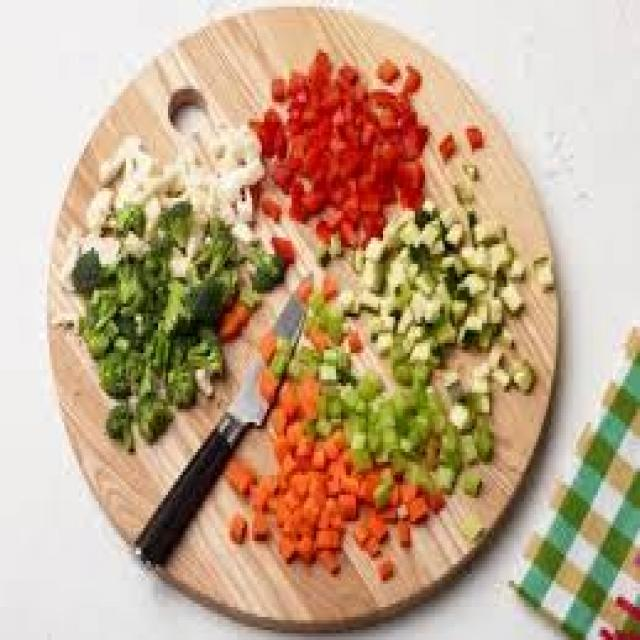organic waste: (170, 122, 218, 185), (106, 258, 158, 314), (173, 270, 232, 316), (79, 287, 119, 353), (190, 218, 240, 270), (148, 194, 190, 250), (309, 122, 358, 165), (163, 337, 195, 402), (138, 240, 176, 294), (185, 330, 218, 392), (96, 350, 144, 392), (156, 280, 198, 326), (131, 386, 170, 435), (220, 152, 272, 188), (284, 92, 329, 132), (237, 244, 277, 287), (250, 102, 282, 155), (346, 96, 378, 145), (114, 152, 156, 188), (79, 228, 121, 264), (383, 247, 420, 287), (104, 402, 133, 452), (99, 135, 138, 172), (366, 310, 398, 353), (82, 182, 114, 224), (381, 204, 415, 241), (393, 158, 420, 204), (396, 112, 422, 158), (64, 251, 104, 280), (358, 142, 393, 175), (217, 297, 252, 330), (465, 208, 504, 237), (264, 162, 302, 191), (329, 82, 368, 109), (284, 492, 316, 524), (222, 459, 257, 488), (208, 132, 247, 158), (294, 376, 319, 416), (425, 419, 455, 452), (158, 152, 185, 188), (373, 92, 405, 122), (334, 218, 363, 250), (370, 56, 398, 89), (400, 452, 430, 482), (218, 185, 245, 218), (482, 234, 509, 267), (529, 247, 553, 284), (287, 346, 316, 376), (336, 247, 368, 274), (396, 66, 422, 99), (373, 284, 405, 310), (390, 383, 422, 409), (356, 178, 390, 201), (284, 129, 314, 155), (328, 86, 361, 109), (312, 162, 338, 191), (418, 218, 444, 247), (445, 402, 472, 429), (408, 333, 435, 360), (410, 264, 438, 290), (356, 366, 378, 399), (358, 205, 383, 234), (440, 218, 462, 250), (254, 370, 276, 402), (356, 261, 383, 287), (368, 389, 391, 419), (420, 290, 440, 324), (309, 49, 329, 82), (138, 191, 160, 221), (430, 274, 450, 307), (396, 409, 416, 442), (306, 287, 326, 320), (435, 136, 455, 168), (312, 528, 344, 548), (432, 317, 454, 346), (418, 383, 440, 412), (334, 495, 358, 521), (358, 237, 381, 264), (314, 353, 341, 376), (336, 165, 366, 185), (312, 211, 338, 234), (403, 323, 425, 350), (314, 544, 336, 571), (334, 175, 354, 204), (386, 330, 406, 359), (284, 66, 309, 89), (512, 363, 534, 389), (393, 297, 415, 323), (225, 515, 247, 541), (287, 188, 311, 211), (460, 475, 484, 498), (351, 277, 375, 300), (413, 406, 437, 429), (109, 188, 141, 205), (331, 59, 351, 86), (242, 125, 260, 155), (49, 306, 76, 326), (440, 369, 460, 396), (390, 356, 410, 383), (318, 310, 338, 337), (489, 366, 512, 389), (406, 290, 428, 314), (474, 426, 492, 455), (284, 469, 302, 498), (316, 495, 334, 524), (272, 231, 292, 257), (460, 122, 477, 152), (450, 178, 472, 201), (334, 287, 356, 310), (242, 485, 264, 508), (227, 221, 252, 241), (363, 426, 388, 446), (306, 465, 324, 492), (296, 531, 314, 558), (279, 380, 294, 412), (195, 188, 218, 208), (59, 235, 79, 258), (502, 251, 522, 274), (408, 356, 428, 379), (264, 409, 284, 432), (358, 531, 378, 554), (430, 465, 452, 485), (366, 475, 388, 495), (250, 512, 270, 534), (326, 455, 348, 475), (403, 492, 425, 512), (351, 522, 371, 544), (457, 426, 472, 455), (318, 270, 334, 297), (331, 346, 344, 379), (484, 340, 502, 363), (269, 343, 287, 366), (252, 468, 269, 492), (432, 204, 452, 224), (402, 224, 422, 244), (438, 446, 458, 466), (393, 475, 413, 495), (274, 538, 294, 558), (418, 198, 435, 221), (385, 442, 403, 462), (338, 382, 356, 402), (269, 432, 287, 452), (368, 514, 383, 538), (328, 426, 344, 448), (416, 485, 438, 501), (356, 469, 368, 498), (467, 389, 487, 406), (393, 522, 408, 544), (378, 558, 393, 580), (257, 198, 277, 214), (496, 320, 512, 340), (328, 396, 344, 416), (262, 492, 277, 512), (277, 455, 294, 472), (371, 505, 393, 518), (314, 419, 328, 439), (324, 472, 338, 492), (257, 333, 269, 356), (341, 198, 358, 214), (444, 300, 460, 317), (287, 419, 304, 435), (353, 198, 373, 211), (346, 406, 366, 419), (276, 518, 292, 534), (460, 158, 474, 175), (329, 112, 346, 126), (274, 468, 287, 485), (309, 194, 331, 204), (316, 380, 334, 392), (425, 238, 442, 250), (467, 370, 484, 382), (267, 76, 282, 89), (467, 356, 482, 369), (309, 449, 321, 465), (348, 429, 361, 442), (368, 452, 391, 459), (341, 475, 353, 488), (296, 277, 304, 294), (296, 442, 306, 455), (245, 178, 257, 188), (396, 502, 406, 514), (353, 390, 361, 402)
